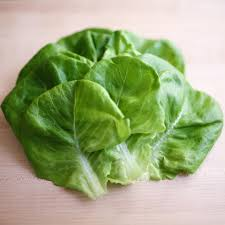Lettuce: (5, 27, 216, 190)
